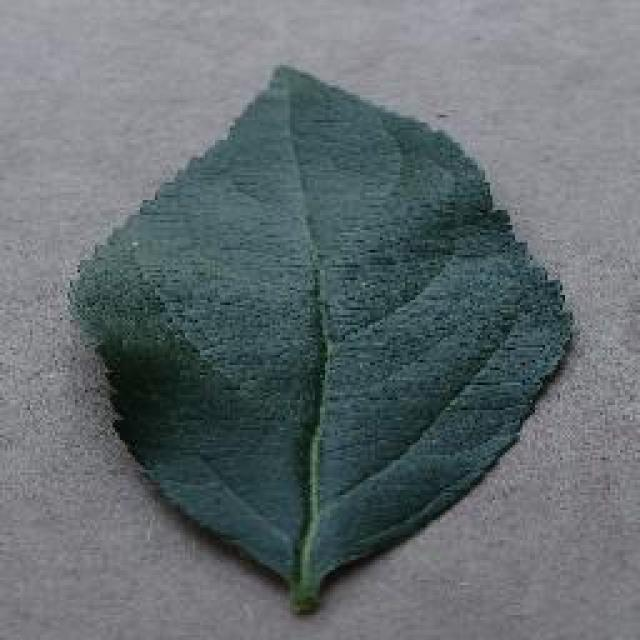apple healthy: (65, 60, 575, 615)
